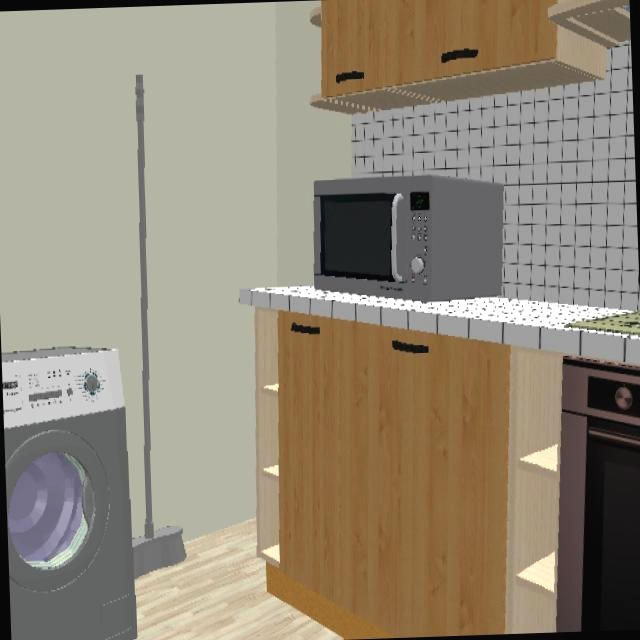cabinet: (258, 312, 538, 638), (313, 0, 623, 113)
countertop: (239, 286, 640, 366)
microwave: (312, 176, 502, 300)
oven: (556, 357, 640, 632)
stove: (568, 311, 640, 336)
